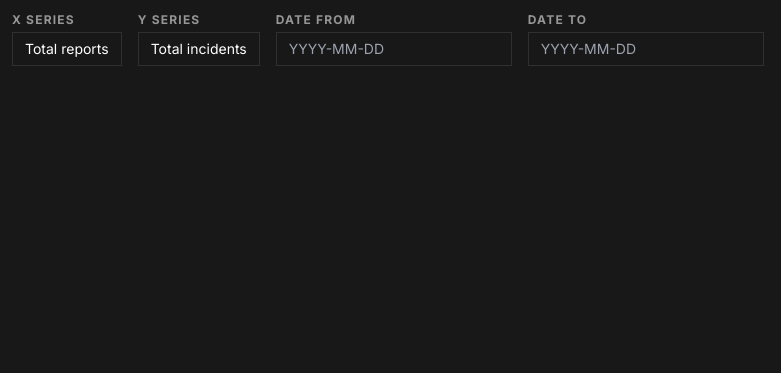
Test case: CorrelationFilters — Q1 catalog grouping (C6 lock) › renders Reports + Incidents section headers in the X picker dropdown
Click the button with test id "correlation-filter-x". click: (67,49)
box: left=12, top=32, right=122, bottom=66
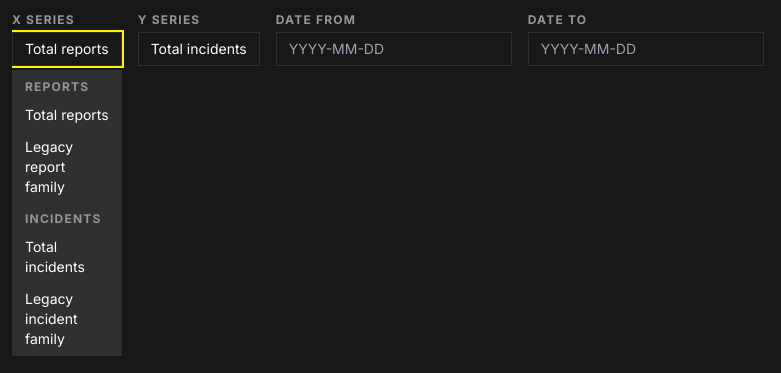
Expected: the text with test id "correlation-filter-x-group-reports" reads "Reports", left=25, top=79, right=89, bottom=94
Expected: the text with test id "correlation-filter-x-group-incidents" reads "Incidents", left=25, top=211, right=102, bottom=226
